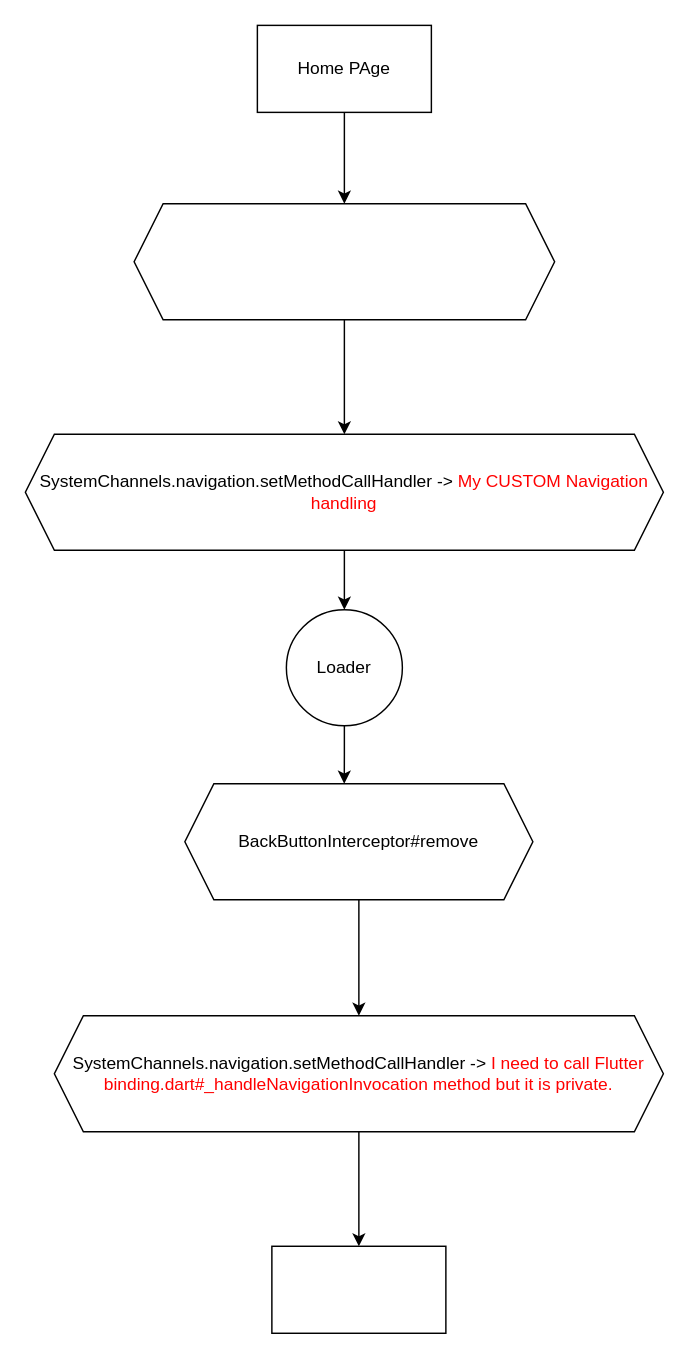
The diagram is 689 pixels wide and 1359 high, and some of its shapes have lost their labels. Each missing label, with the centre of its shape:
BackButtonInterceptor#add: (344,261)
Detail Page: (358,1289)
